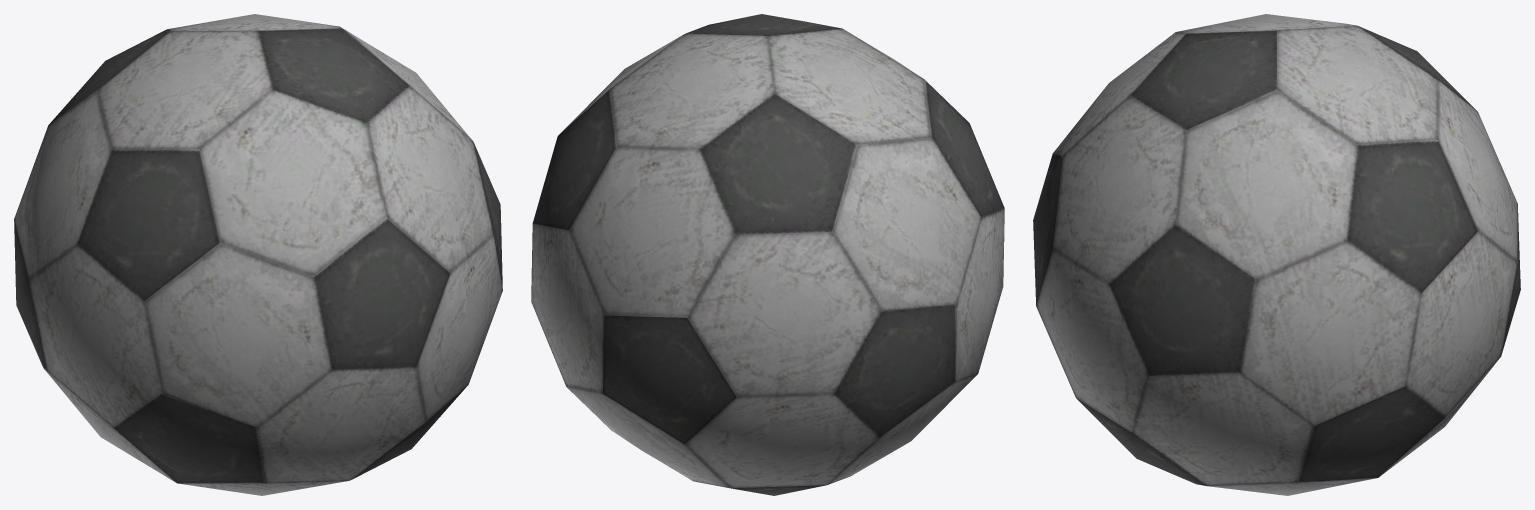
The model's file is soccer_ball_static_LOD0.obj.
3 views of the same model, side by side, from view 1: azimuth 30°, elevation 25°; view 2: azimuth 150°, elevation 25°; view 3: azimuth 270°, elevation 25° (orthographic). The views are drawn at different scales.
Parts seen in each view (by area): view 1: mtl_soccer_ball; view 2: mtl_soccer_ball; view 3: mtl_soccer_ball.
Part boxes in pixels (<box>): mtl_soccer_ball: <box>14,14,502,495</box>; mtl_soccer_ball: <box>531,14,1004,495</box>; mtl_soccer_ball: <box>1033,14,1520,495</box>.
Bounding box in the file's own units: 28.22 × 28.6 × 28.19.
